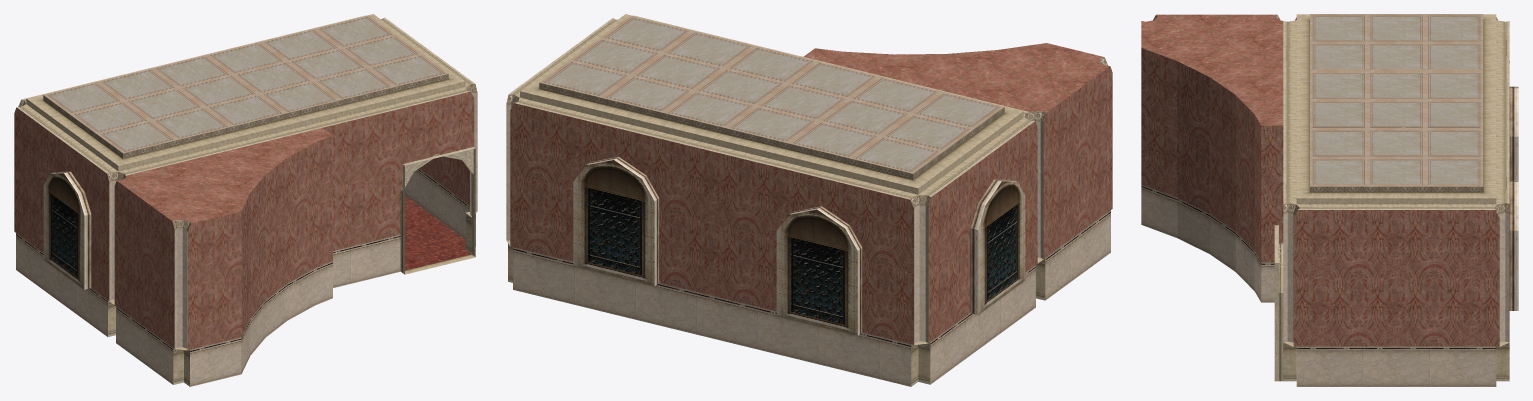
File: ply_nboo_house_m_s01_fp1_r4_roomf1_mesh_r4.fbx
3 views of the same model, side by side, from view 1: azimuth 30°, elevation 25°; view 2: azimuth 150°, elevation 25°; view 3: azimuth 270°, elevation 25° (orthographic). The views are drawn at different scales.
Visible parts, largest first — view 1: mesh_node; view 2: mesh_node; view 3: mesh_node.
Part boxes in pixels (left/top/right/bottom): mesh_node: left=14, top=14, right=477, bottom=386; mesh_node: left=506, top=14, right=1112, bottom=386; mesh_node: left=1141, top=14, right=1518, bottom=386.
Size of the model in its own units: 10.6 by 4.7 by 8.5.
